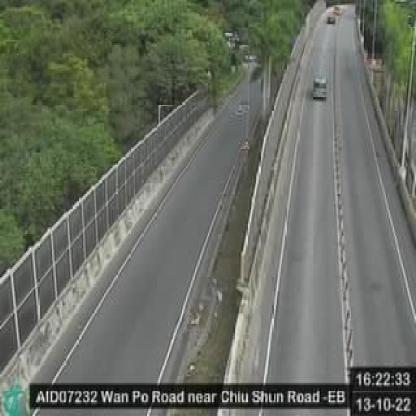Car: (313, 76, 327, 100)
